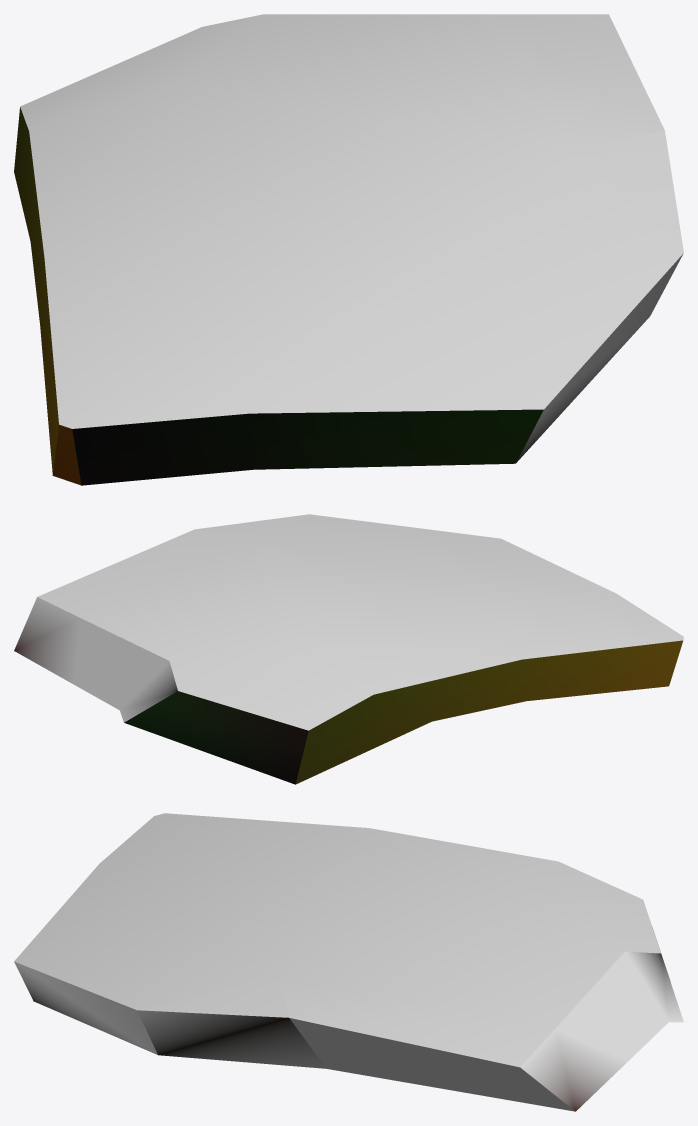
Rendered from Part_3_Roof Piece_09.fbx.
The picture shows the model from 3 angles, top to bottom: view 1: azimuth 30°, elevation 25°; view 2: azimuth 150°, elevation 25°; view 3: azimuth 270°, elevation 25°; orthographic projection. The views are drawn at different scales.
Parts seen in each view (by area): view 1: Part_3_Roof Piece_09; view 2: Part_3_Roof Piece_09; view 3: Part_3_Roof Piece_09.
Part boxes in pixels (x1,y1,x2,y2): Part_3_Roof Piece_09: (14,14,683,485); Part_3_Roof Piece_09: (14,514,683,784); Part_3_Roof Piece_09: (14,813,683,1111).
Bounding box in the file's own units: 17.66 × 3.21 × 17.19.
